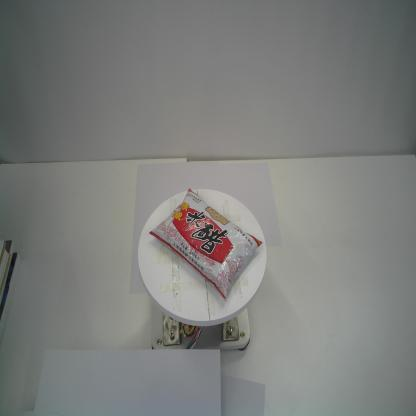Seasoner: (149, 188, 262, 298)
